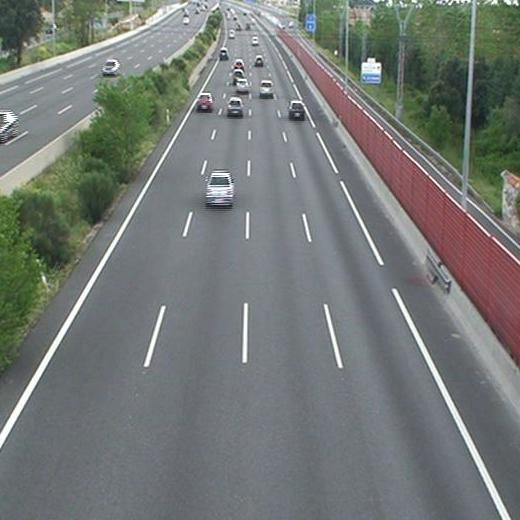car: (205, 171, 234, 204), (227, 98, 244, 115), (197, 92, 213, 108), (289, 102, 306, 117), (259, 82, 274, 95), (237, 79, 249, 92), (232, 69, 243, 80), (233, 59, 245, 69), (219, 49, 229, 60), (255, 56, 264, 66)
